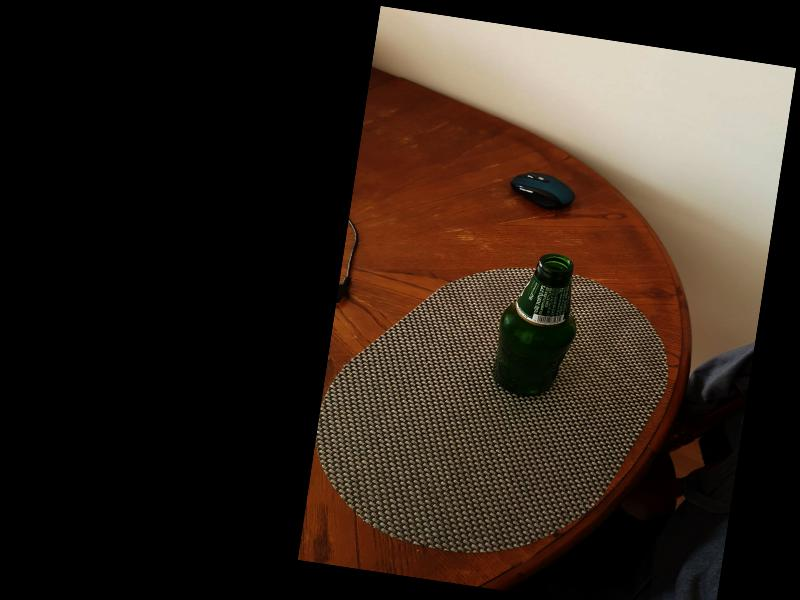Beer: (486, 246, 589, 402)
